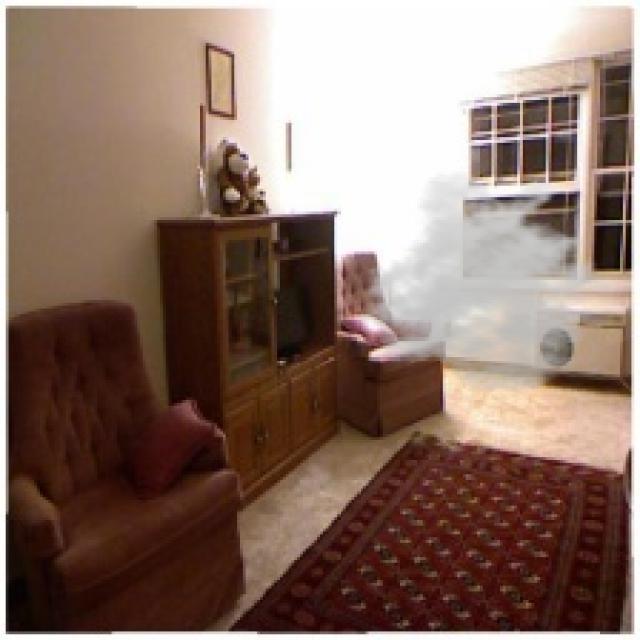smoke: (354, 169, 632, 394)
